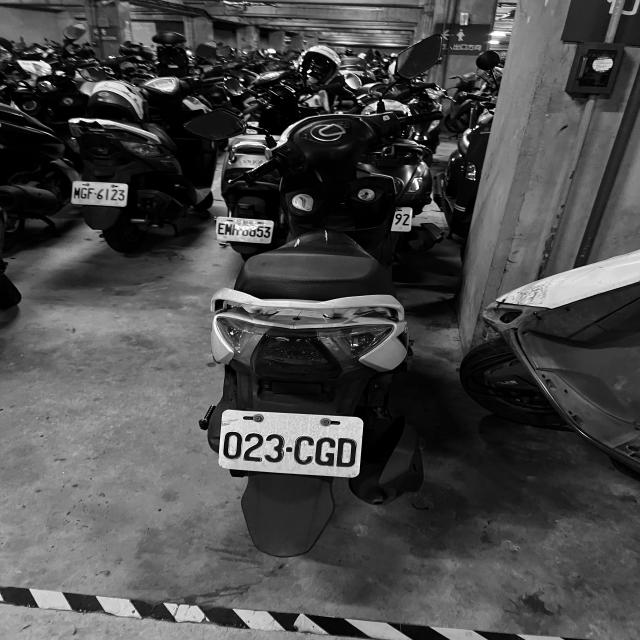-: (285, 444, 294, 454), (93, 192, 97, 195)
0: (224, 430, 242, 459)
1: (106, 188, 110, 200)
2: (245, 431, 263, 463), (402, 214, 410, 226), (110, 189, 118, 201)
3: (264, 432, 284, 464), (264, 226, 271, 238), (118, 189, 125, 201)
5: (257, 226, 264, 237)
6: (97, 188, 104, 200)
9: (395, 213, 402, 225)
C: (293, 435, 314, 465)
D: (337, 436, 358, 467)
E: (218, 223, 224, 235)
F: (87, 188, 94, 200)
G: (315, 434, 335, 467), (81, 186, 87, 199)
M: (225, 223, 231, 235), (74, 187, 80, 199)
plate: (222, 409, 362, 477), (218, 217, 271, 242), (73, 182, 126, 206)
